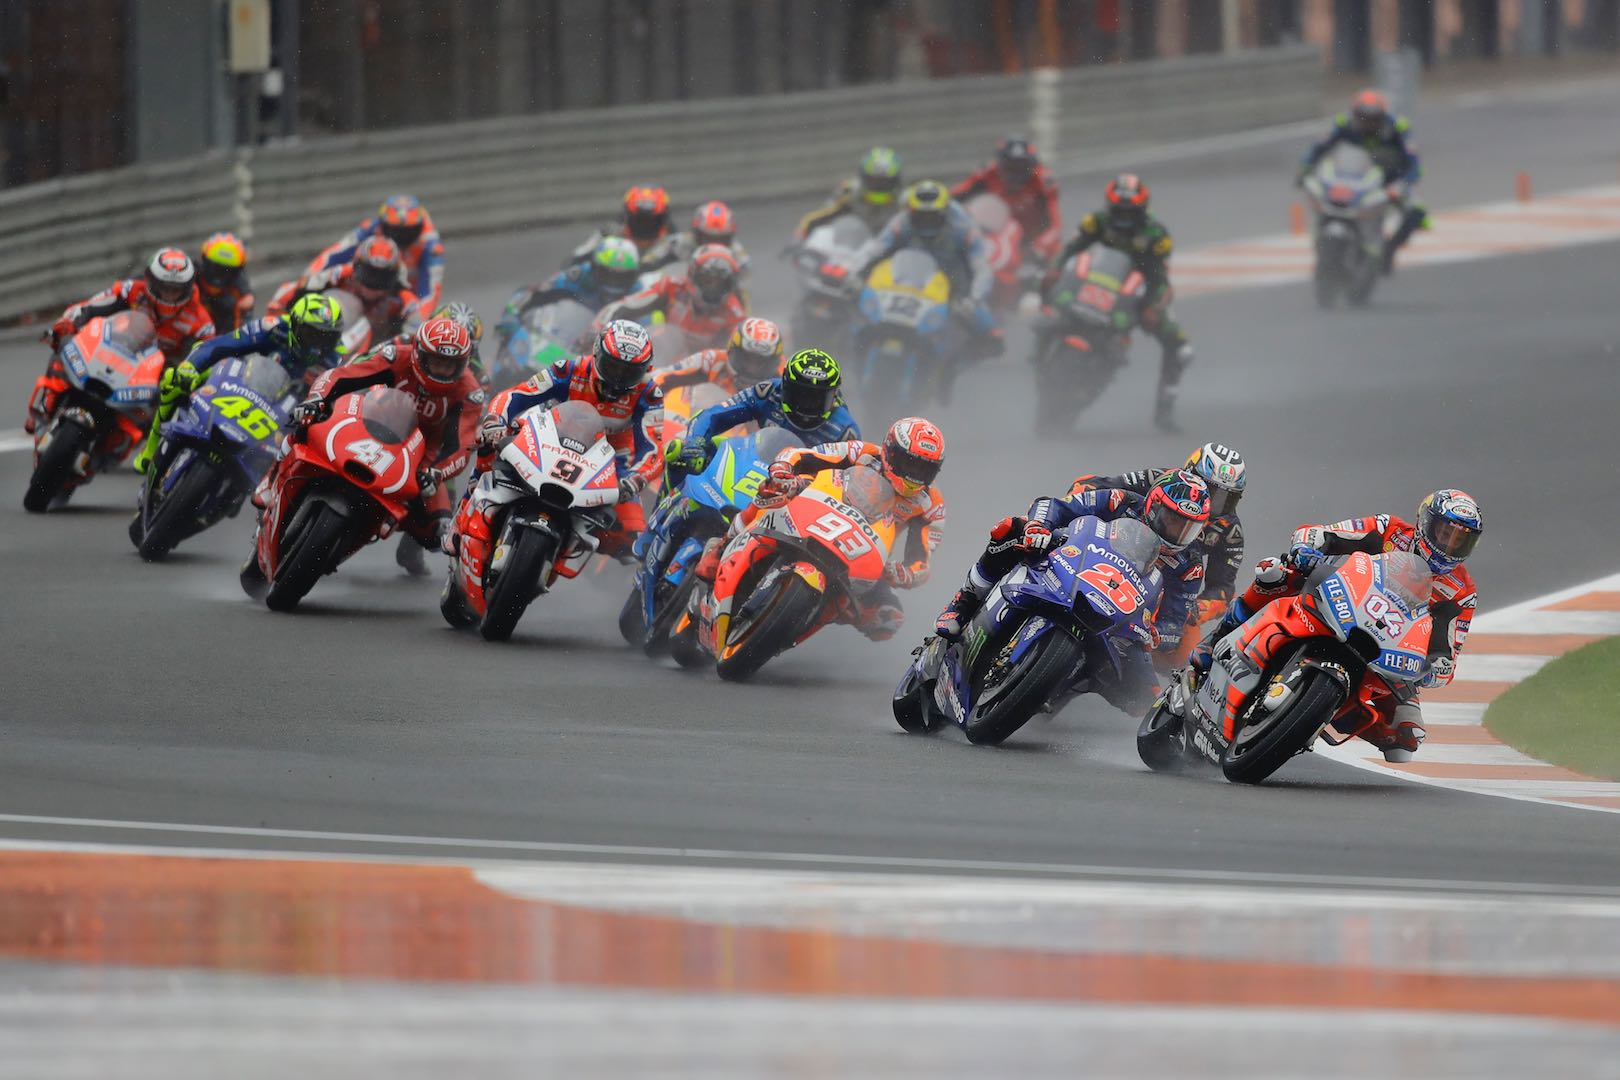helmet: (400, 317, 483, 396), (870, 407, 947, 480), (1420, 480, 1479, 574), (286, 271, 338, 361), (589, 324, 648, 401), (341, 222, 400, 293), (1099, 159, 1154, 229), (141, 240, 198, 306), (905, 168, 956, 238), (791, 350, 840, 416), (596, 227, 640, 297), (848, 141, 897, 200), (683, 247, 730, 302), (996, 128, 1042, 176)
